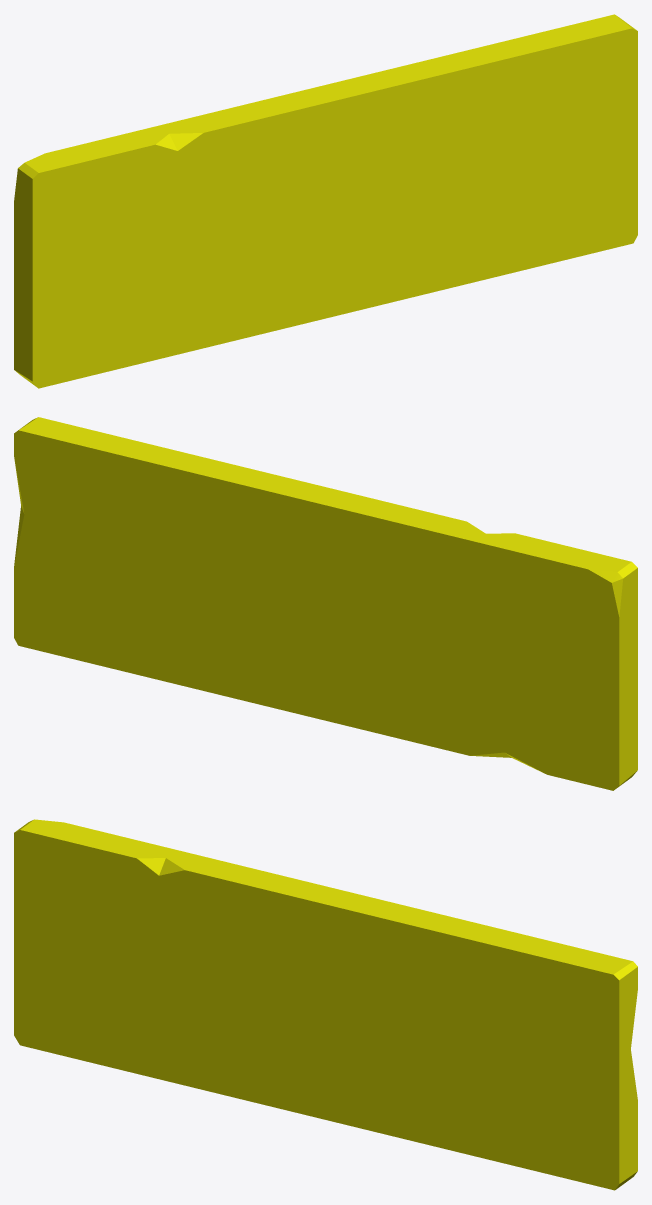
Rendered from SM_Sign_AirLock_01.glb.
The picture shows the model from 3 angles, top to bottom: view 1: azimuth 30°, elevation 25°; view 2: azimuth 150°, elevation 25°; view 3: azimuth 330°, elevation 25°; orthographic projection.
Parts seen in each view (by area): view 1: SM_Sign_AirLock_01; view 2: SM_Sign_AirLock_01; view 3: SM_Sign_AirLock_01.
Part boxes in pixels (left/top/right/bottom): SM_Sign_AirLock_01: left=14, top=14, right=637, bottom=388; SM_Sign_AirLock_01: left=14, top=417, right=637, bottom=790; SM_Sign_AirLock_01: left=14, top=819, right=637, bottom=1190.
Size of the model in its own units: 2.7 by 0.918 by 0.1442.
Materials: 1 (1 with a texture image).
